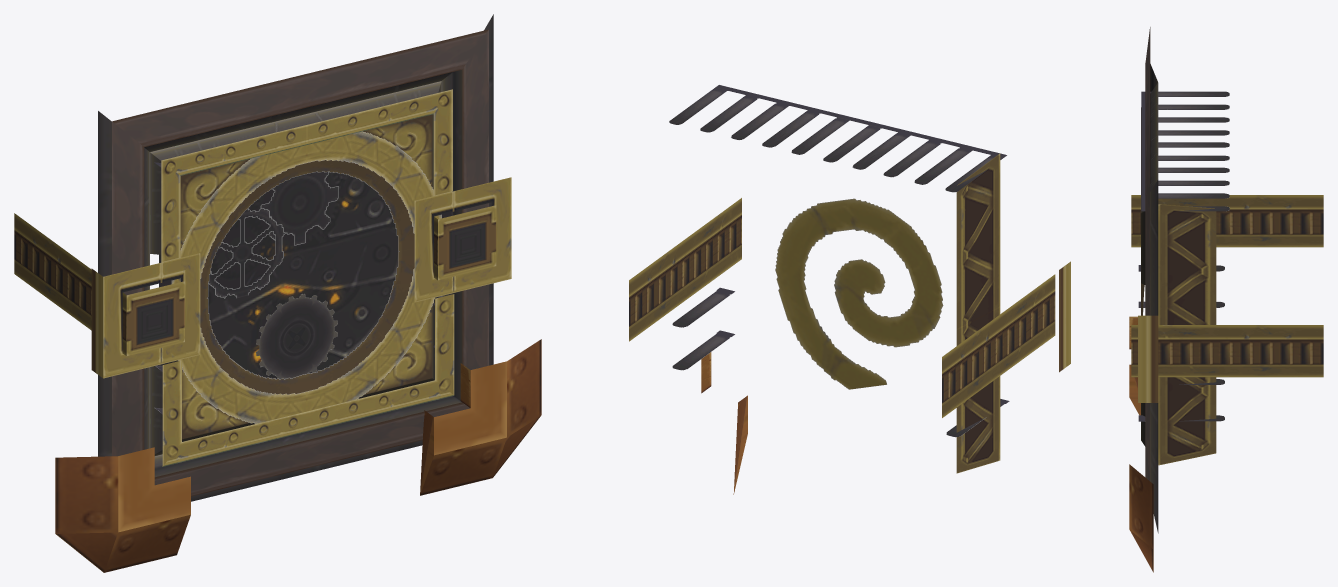
3 views of the same model, side by side, from view 1: azimuth 30°, elevation 25°; view 2: azimuth 150°, elevation 25°; view 3: azimuth 270°, elevation 25° (orthographic). The views are drawn at different scales.
Visible parts, largest first — view 1: platform.model-Mesh[2], platform.model-Mesh[0], platform.model-Mesh[1]; view 2: platform.model-Mesh[2], platform.model-Mesh[1]; view 3: platform.model-Mesh[2], platform.model-Mesh[1], platform.model-Mesh[0].
Boxes of the visible parts, x1,y1,x2,y2 form: platform.model-Mesh[2]: (14, 14, 511, 501); platform.model-Mesh[0]: (112, 29, 488, 496); platform.model-Mesh[1]: (55, 339, 541, 572); platform.model-Mesh[2]: (629, 85, 1070, 473); platform.model-Mesh[1]: (701, 352, 747, 494); platform.model-Mesh[2]: (1131, 64, 1323, 533); platform.model-Mesh[1]: (1129, 316, 1153, 572); platform.model-Mesh[0]: (1145, 27, 1150, 481).
Bounding box in the file's own units: 5 × 4.53 × 2.02.
3 materials, 3 textured.
